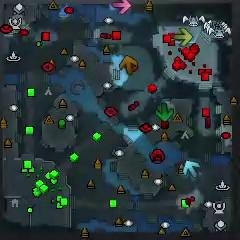x1: (112, 0, 131, 12)
x2: (174, 28, 193, 46)
x3: (183, 161, 201, 177)
x4: (156, 102, 173, 121)
x5: (119, 55, 137, 73)
